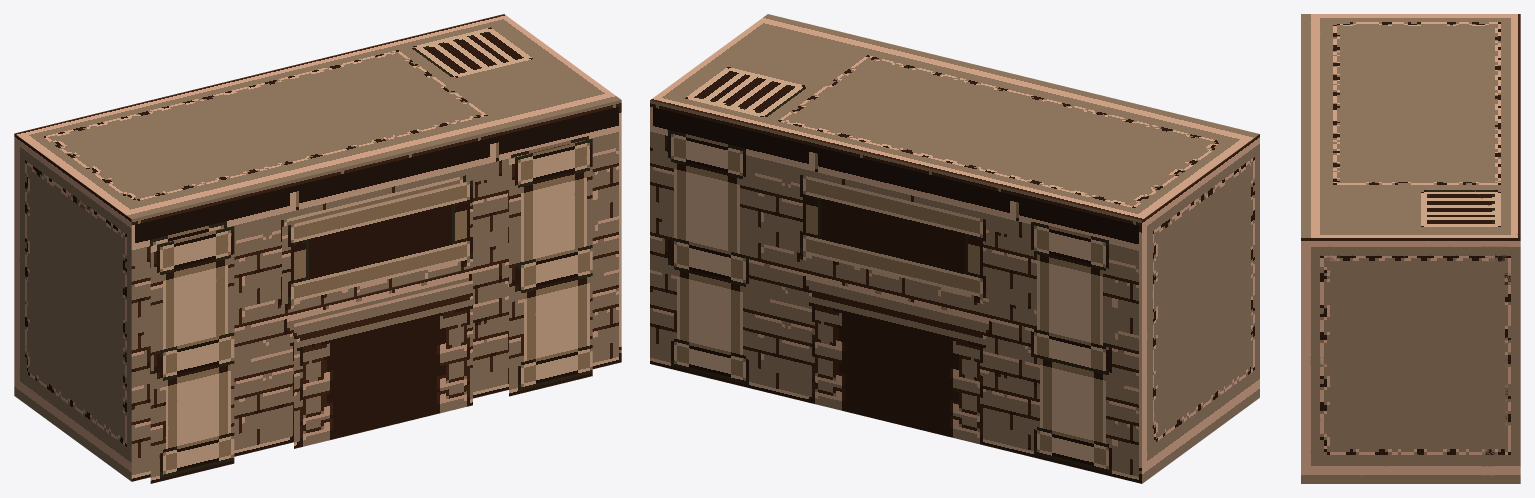
Rendered from home.gltf.
The picture shows the model from 3 angles, left to right: view 1: azimuth 30°, elevation 25°; view 2: azimuth 150°, elevation 25°; view 3: azimuth 270°, elevation 25°; orthographic projection. The views are drawn at different scales.
Size of the model in its own units: 10.25 by 5.25 by 4.5.
1 material, 1 textured.
